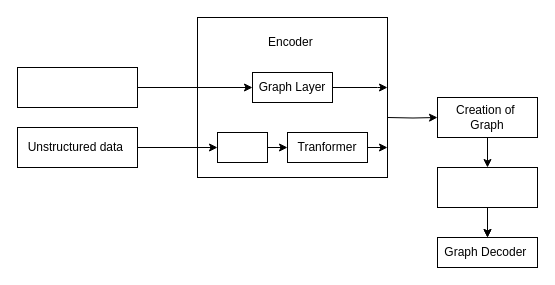
Image size: 555x285. Some labels were removed from this diagram. Each missing label, with the centre of its shape:
"Graph Neural Network" goes at pixel 487 187.
"LLM" goes at pixel 242 147.
"Structured data" goes at pixel 77 87.
